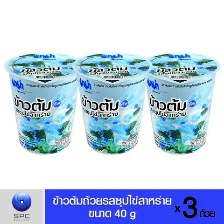paper_cup: (68, 47, 157, 158), (0, 47, 85, 158), (138, 47, 223, 157)
